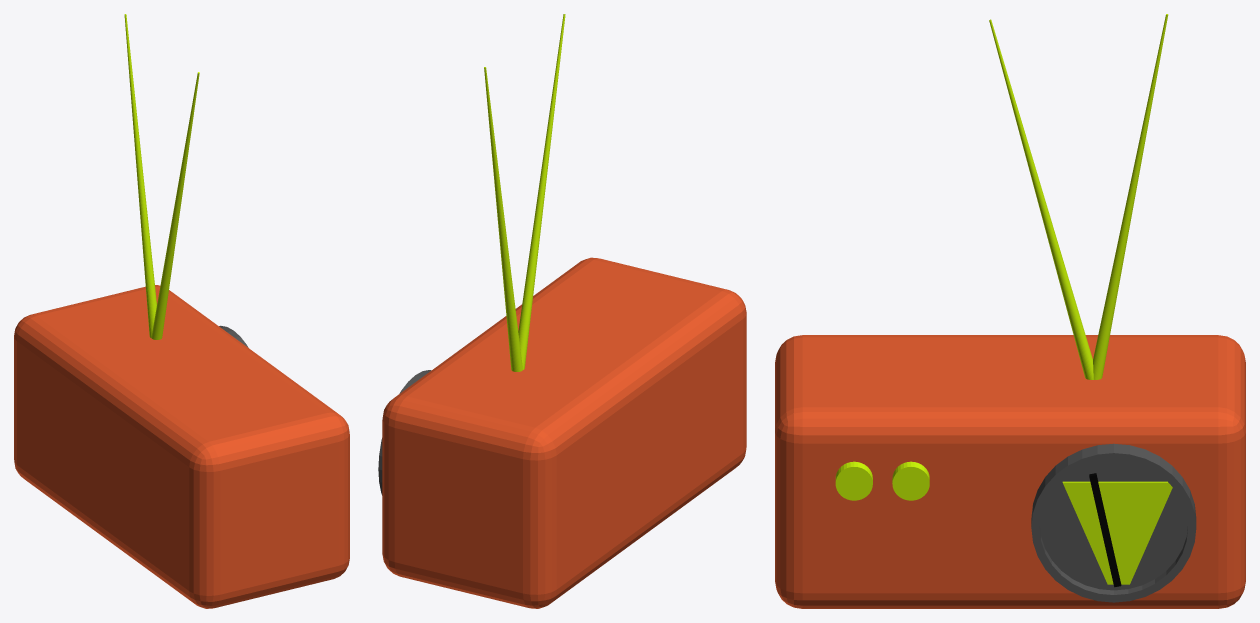
File: radio_off.fbx
3 renders of one model, left to right at view 1: azimuth 30°, elevation 25°; view 2: azimuth 150°, elevation 25°; view 3: azimuth 270°, elevation 25°, orthographic. The views are drawn at different scales.
Parts seen in each view (by area): view 1: Cube, Cylinder.004, Cylinder.005; view 2: Cube, Cylinder.005, Cylinder.004; view 3: Cube, Cylinder.001, Cube.001, Cylinder.004, Cylinder.005, Cylinder.003, Cylinder.002, Cube.002.
Boxes of the visible parts, <box> form: Cube: <box>14,285,349,608</box>; Cylinder.004: <box>124,14,156,337</box>; Cylinder.005: <box>151,72,199,339</box>; Cube: <box>382,257,746,608</box>; Cylinder.005: <box>518,14,565,369</box>; Cylinder.004: <box>484,67,522,371</box>; Cube: <box>775,335,1245,608</box>; Cylinder.001: <box>1031,443,1196,602</box>; Cube.001: <box>1062,481,1172,584</box>; Cylinder.004: <box>1093,14,1168,379</box>; Cylinder.005: <box>989,19,1093,379</box>; Cylinder.003: <box>892,461,929,500</box>; Cylinder.002: <box>835,461,872,500</box>; Cube.002: <box>1089,473,1121,587</box>.
Bounding box in the file's own units: 220 × 564 × 428.
